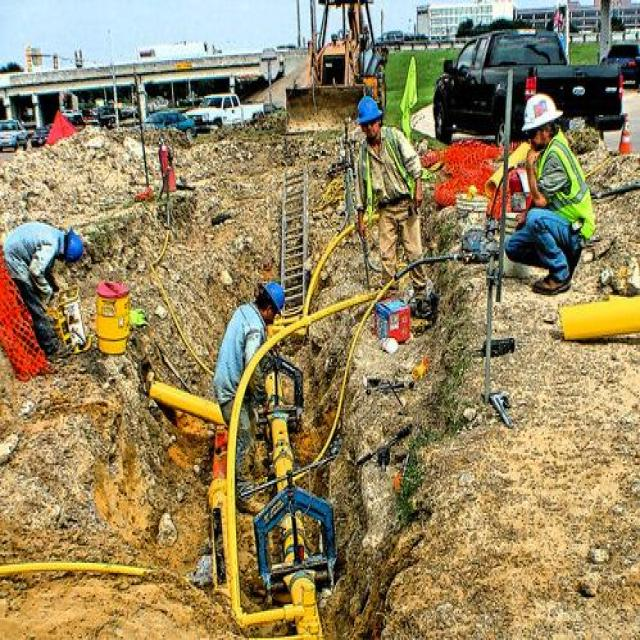Reflective-Jacket: (535, 137, 598, 235)
Safety-Helmet: (519, 91, 563, 134), (258, 276, 288, 318), (352, 94, 384, 129), (62, 226, 84, 262)
